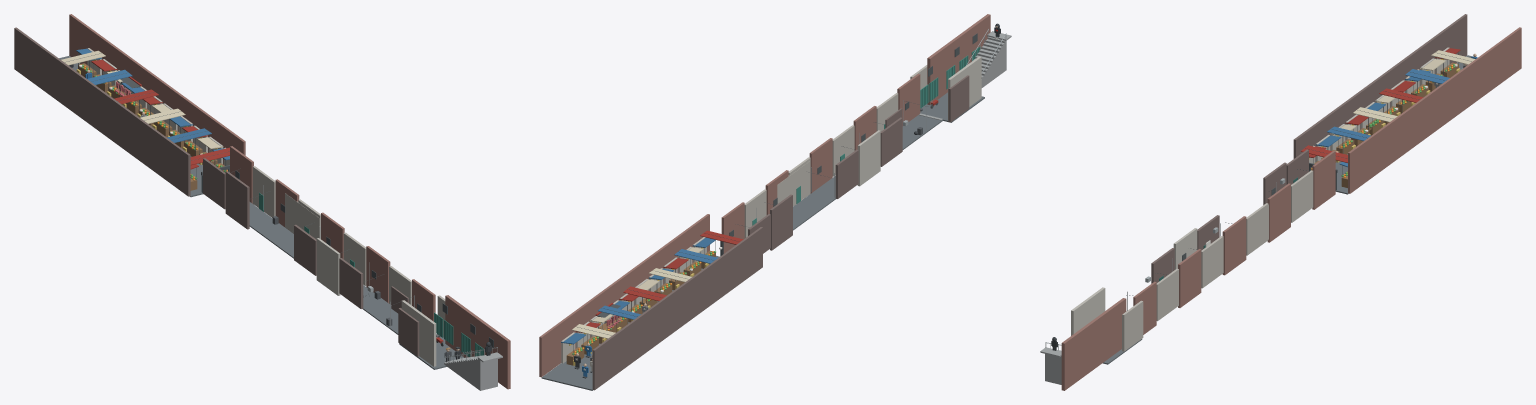
3 renders of one model, left to right at view 1: azimuth 30°, elevation 25°; view 2: azimuth 150°, elevation 25°; view 3: azimuth 330°, elevation 25°, orthographic. The views are drawn at different scales.
Visible parts, largest first — view 1: S03_left_market_wall, S03_right_market_wall, S01_right_building, S02_alley_ground, S02_left_facade_7, S02_left_facade_3, S01_far_building, S02_right_facade_2, S02_left_facade_2, S02_beige_chase_wall, S02_left_facade_4, S02_left_facade_8 (+10 smaller); view 2: S03_left_market_wall, S03_right_market_wall, S01_right_building, S02_alley_ground, S02_left_facade_3, S03_market_road, S02_left_facade_7, S02_right_facade_4, S02_beige_chase_wall, S02_left_facade_4, S02_right_facade_0, S02_left_facade_2 (+10 smaller); view 3: S03_right_market_wall, S03_left_market_wall, S01_right_building, S02_right_facade_4, S02_right_facade_8, S02_right_facade_2, S02_right_facade_6, S01_far_building, S02_right_facade_1, S02_right_facade_5, S02_right_facade_7, S02_right_facade_3 (+8 smaller).
Boxes of the visible parts, bbox=[...] form: S03_left_market_wall: bbox=[14, 27, 190, 196]; S03_right_market_wall: bbox=[69, 14, 245, 164]; S01_right_building: bbox=[445, 295, 510, 389]; S02_alley_ground: bbox=[249, 202, 398, 334]; S02_left_facade_7: bbox=[225, 171, 249, 229]; S02_left_facade_3: bbox=[316, 238, 340, 295]; S01_far_building: bbox=[401, 300, 436, 366]; S02_right_facade_2: bbox=[366, 246, 390, 303]; S02_left_facade_2: bbox=[339, 258, 363, 308]; S02_beige_chase_wall: bbox=[285, 193, 319, 239]; S02_left_facade_4: bbox=[294, 224, 316, 275]; S02_left_facade_8: bbox=[203, 158, 225, 209]; S03_left_market_wall: bbox=[592, 227, 762, 390]; S03_right_market_wall: bbox=[539, 214, 709, 377]; S01_right_building: bbox=[927, 14, 990, 104]; S02_alley_ground: bbox=[793, 115, 943, 230]; S02_left_facade_3: bbox=[857, 130, 880, 186]; S03_market_road: bbox=[541, 255, 719, 390]; S02_left_facade_7: bbox=[770, 194, 792, 250]; S02_right_facade_4: bbox=[809, 138, 832, 193]; S02_beige_chase_wall: bbox=[777, 161, 810, 206]; S02_left_facade_4: bbox=[835, 149, 858, 198]; S02_right_facade_0: bbox=[897, 73, 920, 125]; S02_left_facade_2: bbox=[880, 117, 902, 166]; S03_right_market_wall: bbox=[1348, 27, 1521, 193]; S03_left_market_wall: bbox=[1293, 14, 1467, 162]; S01_right_building: bbox=[1061, 298, 1126, 390]; S02_right_facade_4: bbox=[1222, 216, 1246, 275]; S02_right_facade_8: bbox=[1312, 150, 1335, 209]; S02_right_facade_2: bbox=[1178, 249, 1201, 307]; S02_right_facade_6: bbox=[1267, 183, 1290, 242]; S01_far_building: bbox=[1071, 287, 1105, 335]; S02_right_facade_1: bbox=[1156, 268, 1178, 321]; S02_right_facade_5: bbox=[1246, 203, 1268, 255]; S02_right_facade_7: bbox=[1291, 170, 1313, 222]; S02_right_facade_3: bbox=[1201, 236, 1223, 288].
Bounding box in the file's own units: 8.75 × 7.5 × 119.
